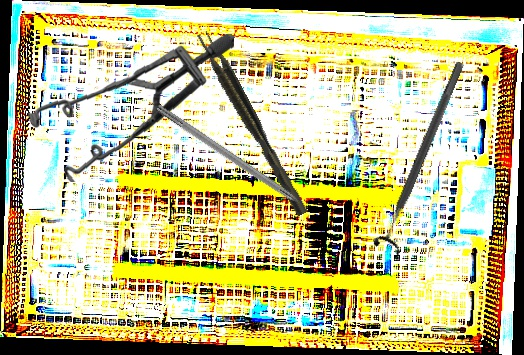Fixation Ring: (370, 57, 476, 256)
Hook Surgical: (154, 103, 319, 220)
Speculum: (25, 27, 235, 188)
Tissue Forceps: (194, 28, 309, 220)
